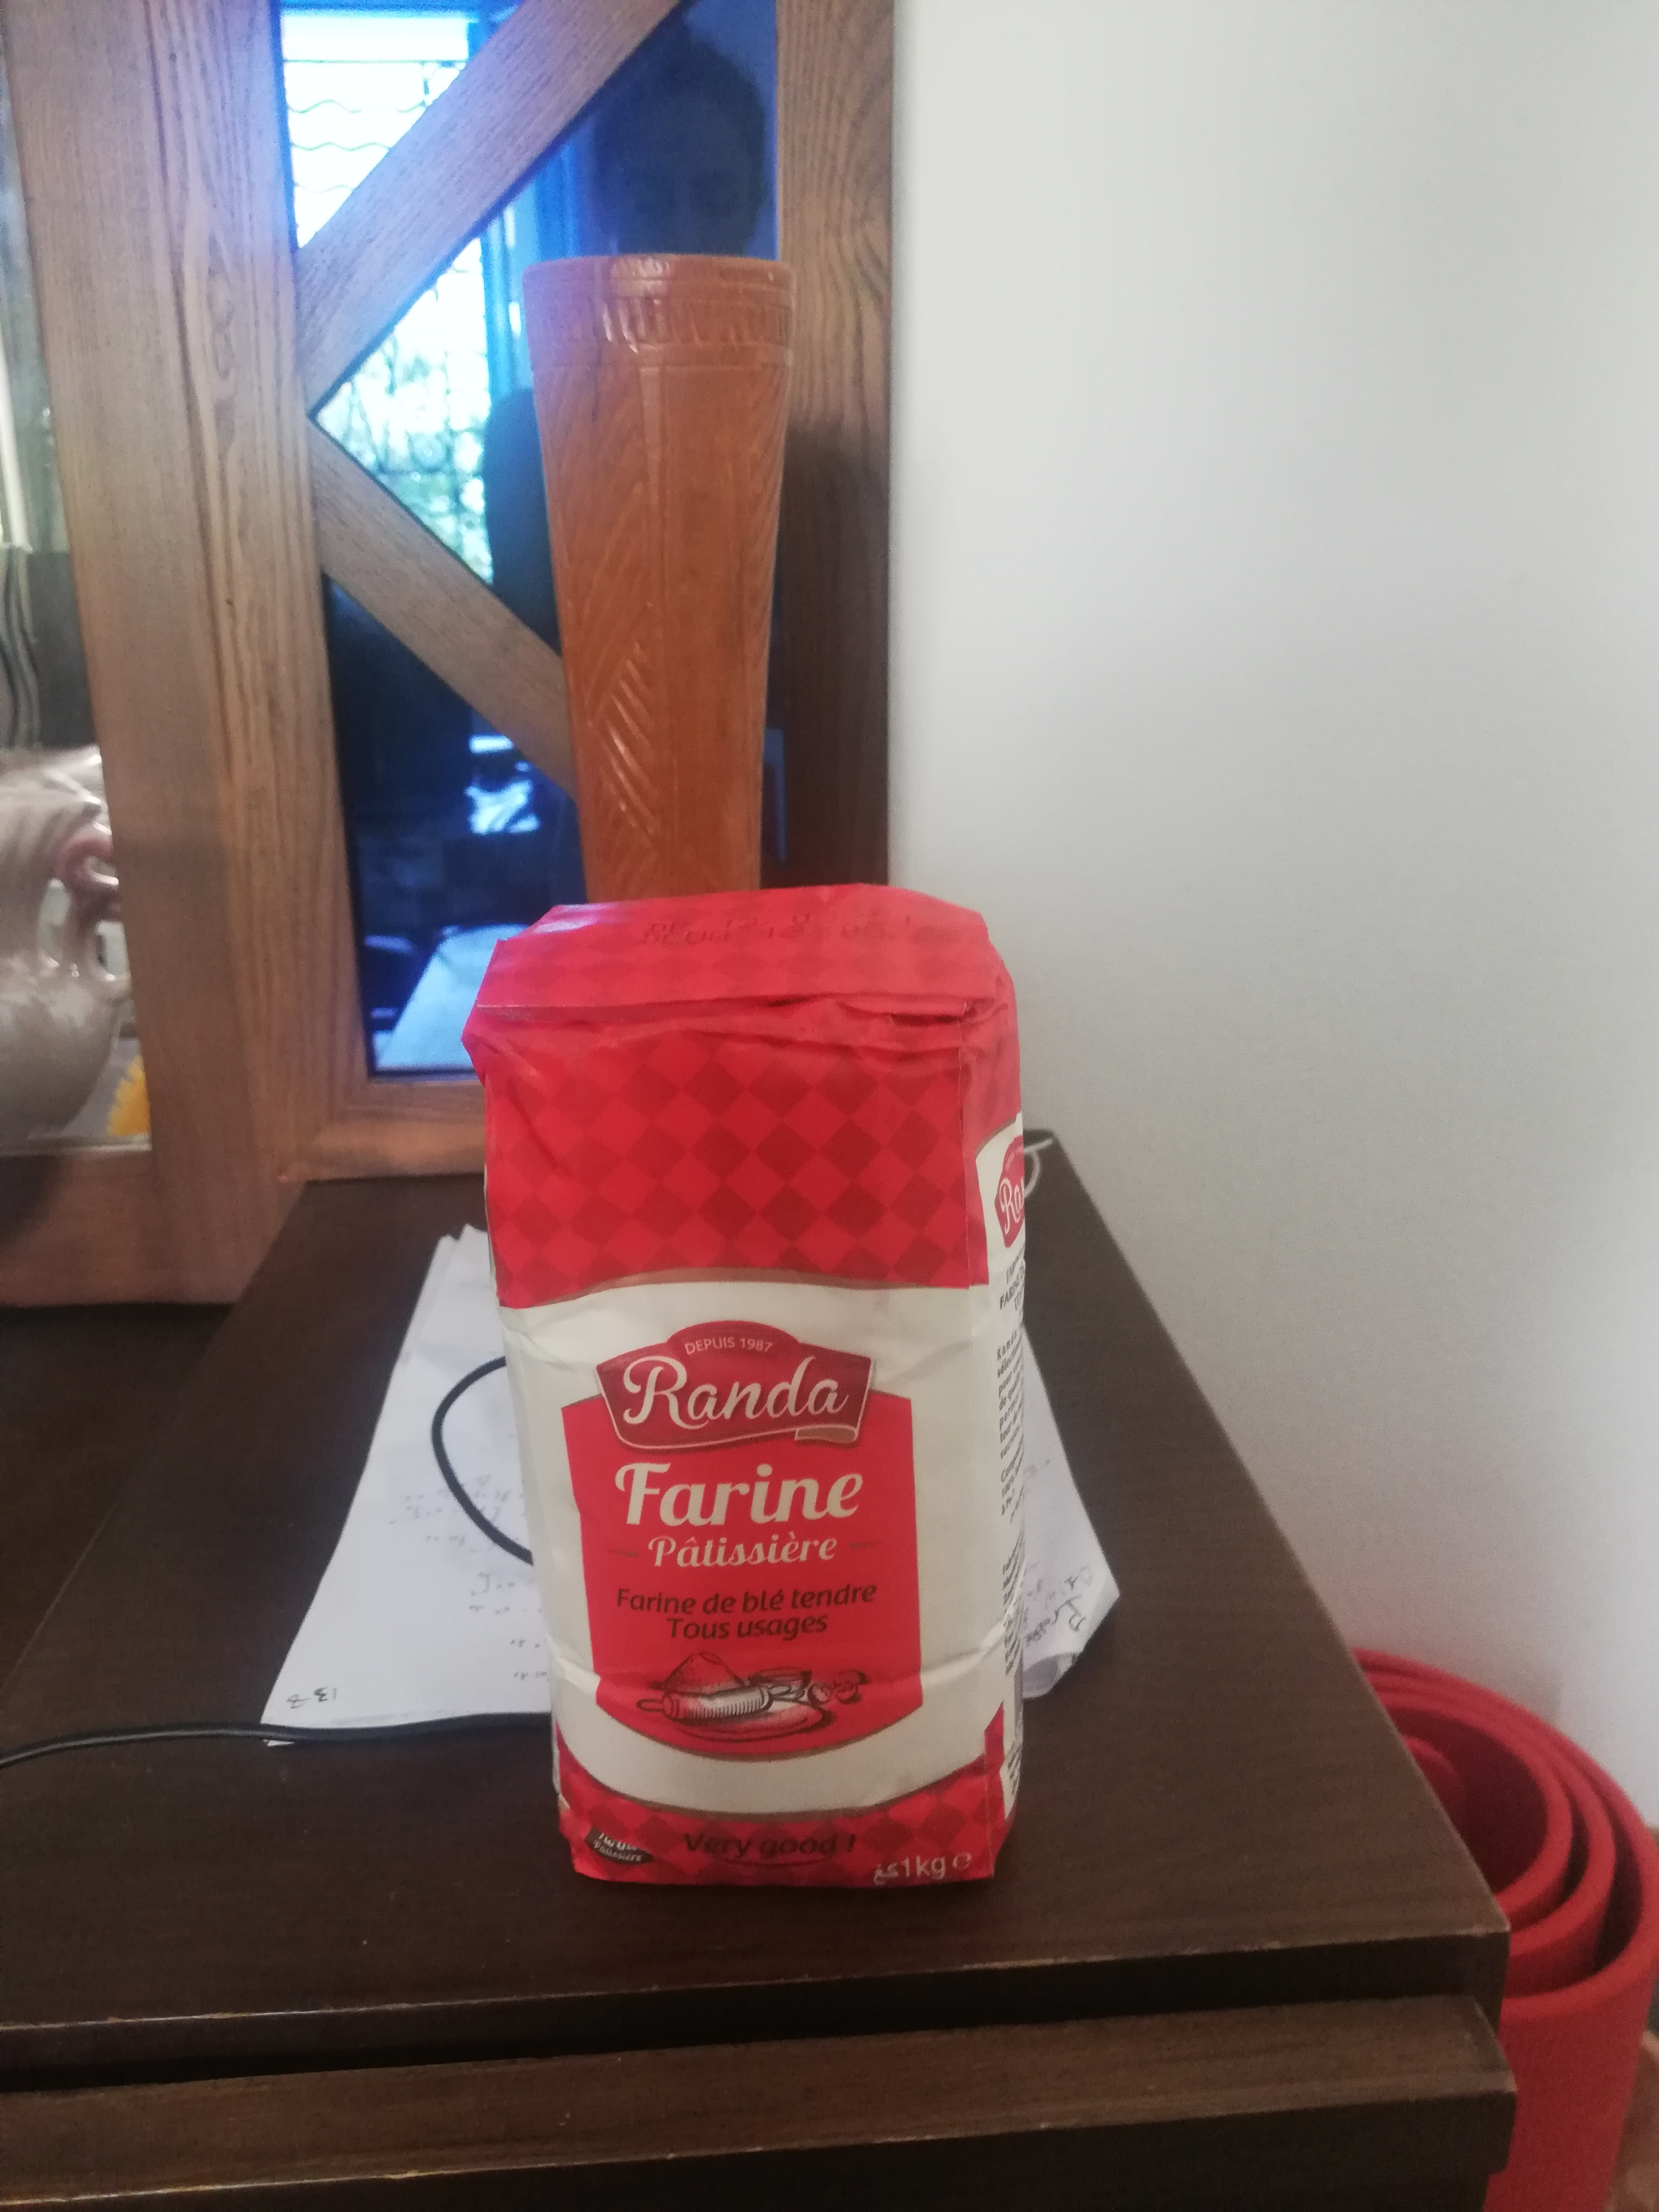Farine Randa: (462, 887, 1025, 1892)
